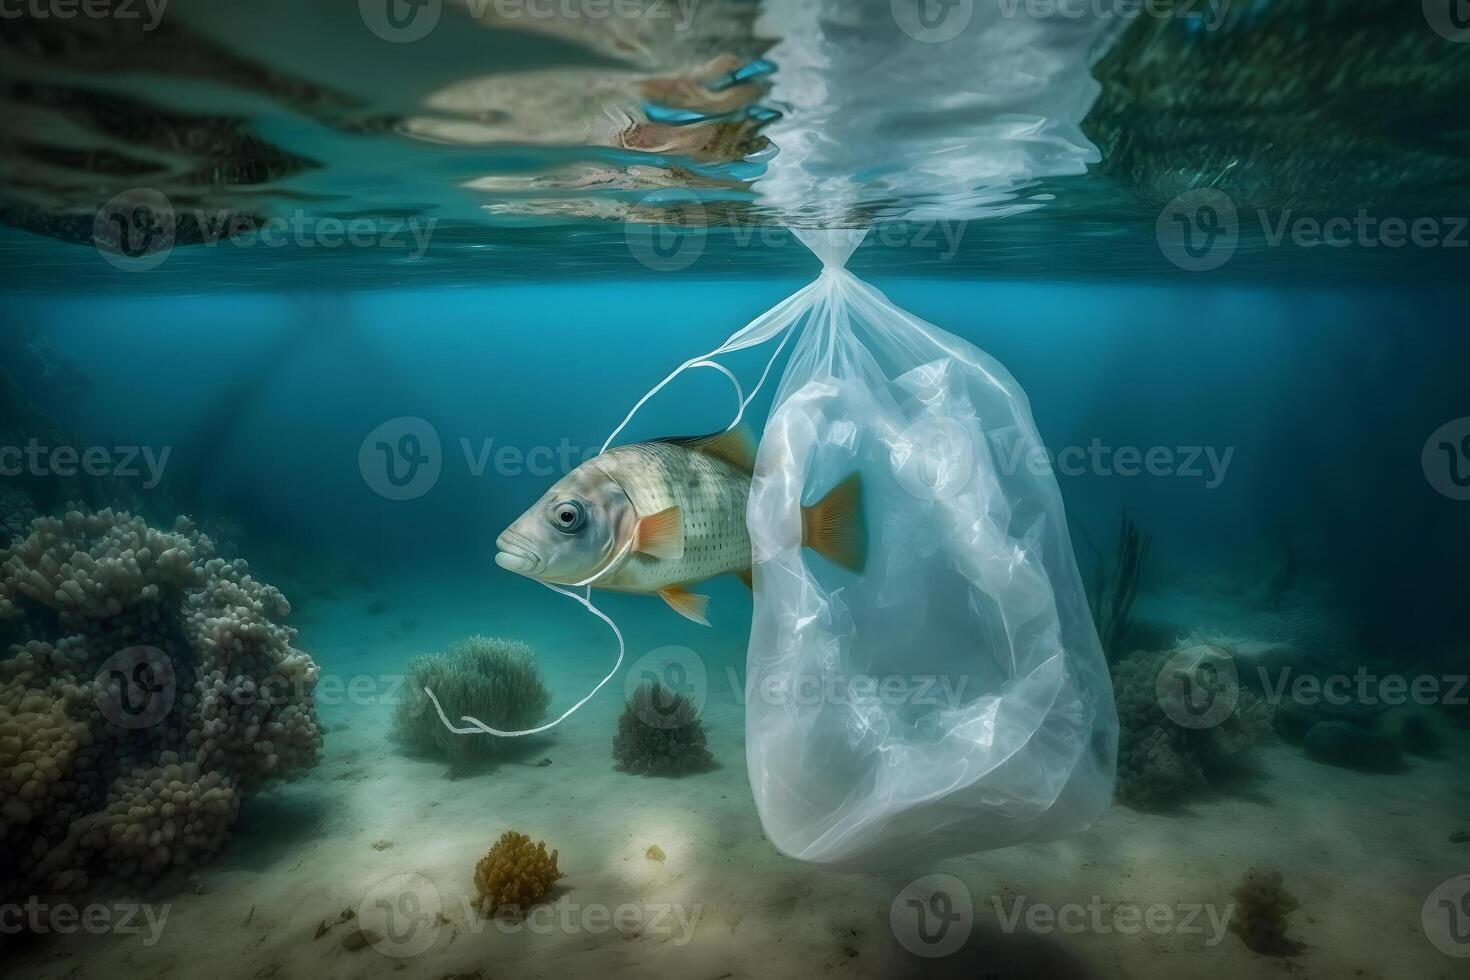Fish: (751, 209, 1132, 882), (498, 422, 880, 628)
